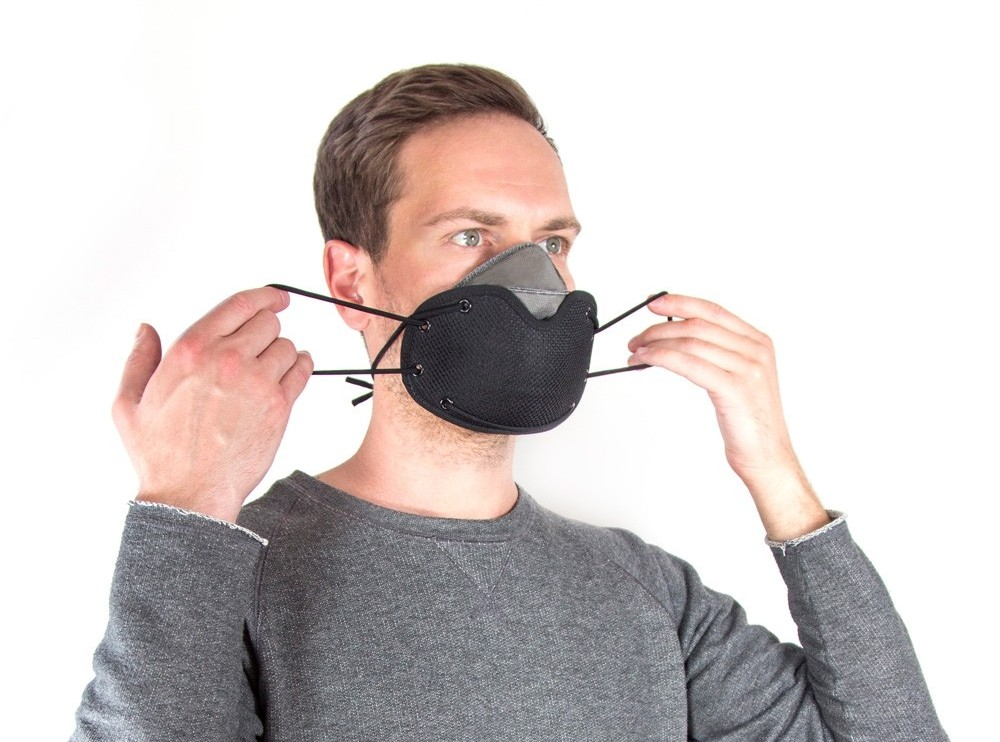Mask: (383, 122, 598, 440)
